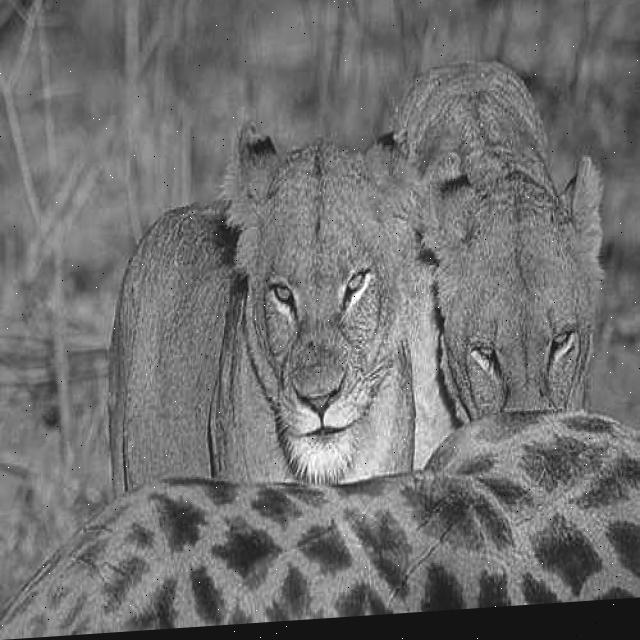Lion: (186, 115, 415, 465)
